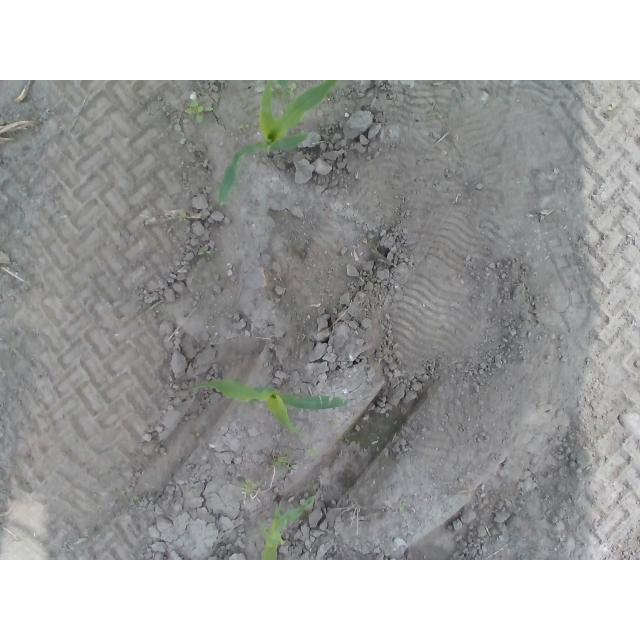Maize: (215, 80, 341, 205), (181, 382, 347, 437), (261, 496, 315, 561)
Weeds: (186, 99, 214, 126), (272, 80, 300, 96), (272, 454, 289, 469), (243, 480, 253, 496), (306, 447, 318, 458), (197, 249, 211, 257), (189, 429, 200, 439), (239, 123, 249, 134), (178, 210, 186, 222), (607, 103, 615, 111)
